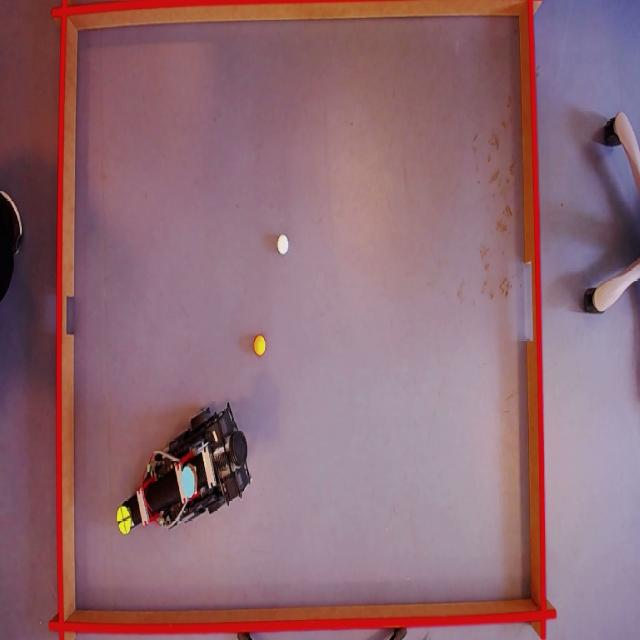orange: (254, 336, 268, 356)
robot: (109, 406, 254, 536)
robot-front: (116, 505, 132, 535)
robot-rear: (181, 466, 196, 499)
white: (276, 234, 288, 255)
